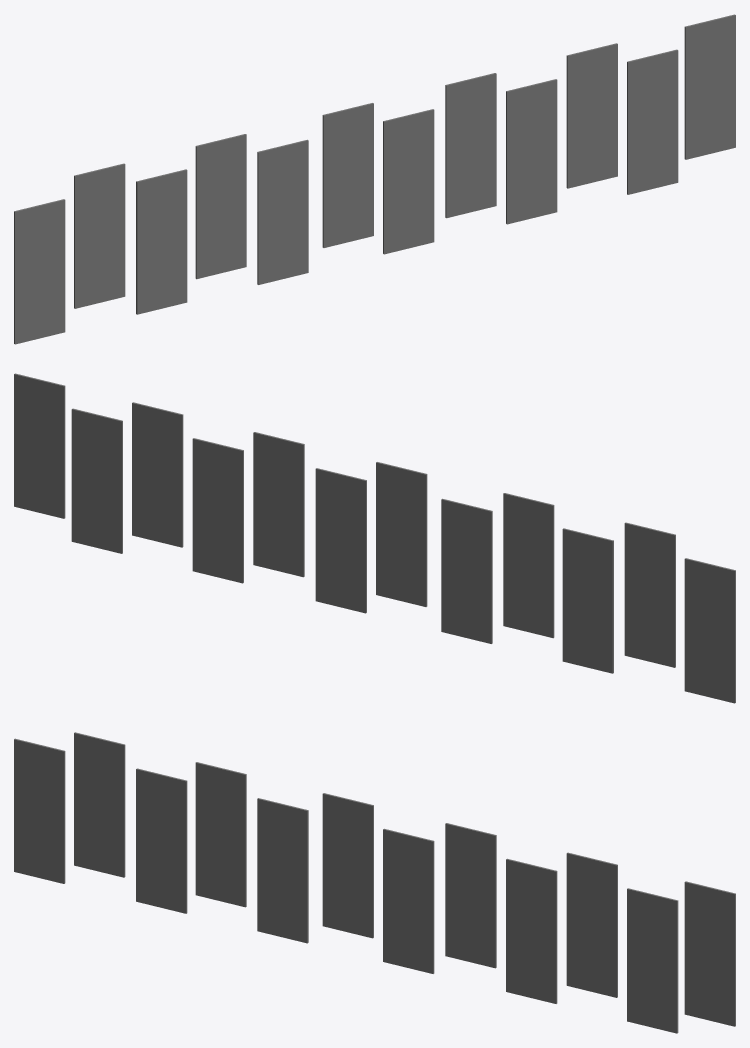
File: pareddg.obj
3 views of the same model, one above another, from view 1: azimuth 30°, elevation 25°; view 2: azimuth 150°, elevation 25°; view 3: azimuth 330°, elevation 25° (orthographic).
Visible parts, largest first — view 1: Box142, Box143, Box151, Box152, Box146, Box147, Box148, Box149, Box150, Box141, Box144, Box153; view 2: Box142, Box143, Box151, Box152, Box146, Box147, Box148, Box149, Box150, Box141, Box144, Box153; view 3: Box143, Box149, Box141, Box142, Box144, Box146, Box147, Box152, Box148, Box150, Box151, Box153.
Boxes of the visible parts, x1=… form: Box142: x1=627, y1=49, x2=678, y2=194; Box143: x1=566, y1=43, x2=617, y2=188; Box151: x1=136, y1=169, x2=187, y2=314; Box152: x1=74, y1=163, x2=125, y2=308; Box146: x1=383, y1=109, x2=434, y2=254; Box147: x1=445, y1=73, x2=496, y2=218; Box148: x1=322, y1=103, x2=373, y2=247; Box149: x1=257, y1=139, x2=308, y2=284; Box150: x1=195, y1=134, x2=246, y2=279; Box141: x1=684, y1=14, x2=735, y2=159; Box144: x1=506, y1=79, x2=557, y2=224; Box153: x1=14, y1=199, x2=65, y2=344; Box142: x1=71, y1=408, x2=122, y2=553; Box143: x1=132, y1=402, x2=183, y2=547; Box151: x1=562, y1=528, x2=613, y2=673; Box152: x1=624, y1=522, x2=675, y2=667; Box146: x1=315, y1=468, x2=366, y2=613; Box147: x1=253, y1=432, x2=304, y2=577; Box148: x1=376, y1=462, x2=427, y2=606; Box149: x1=441, y1=498, x2=492, y2=643; Box150: x1=503, y1=493, x2=554, y2=638; Box141: x1=14, y1=373, x2=65, y2=518; Box144: x1=192, y1=438, x2=243, y2=583; Box153: x1=684, y1=558, x2=735, y2=703; Box143: x1=566, y1=852, x2=617, y2=997; Box149: x1=257, y1=798, x2=308, y2=943; Box141: x1=684, y1=881, x2=735, y2=1026; Box142: x1=627, y1=888, x2=678, y2=1033; Box144: x1=506, y1=858, x2=557, y2=1003; Box146: x1=383, y1=828, x2=434, y2=973; Box147: x1=445, y1=823, x2=496, y2=968; Box152: x1=74, y1=732, x2=125, y2=877; Box148: x1=322, y1=793, x2=373, y2=938; Box150: x1=195, y1=762, x2=246, y2=907; Box151: x1=136, y1=768, x2=187, y2=913; Box153: x1=14, y1=738, x2=65, y2=883.
Size of the model in its own units: 193 by 39.34 by 0.4962.
